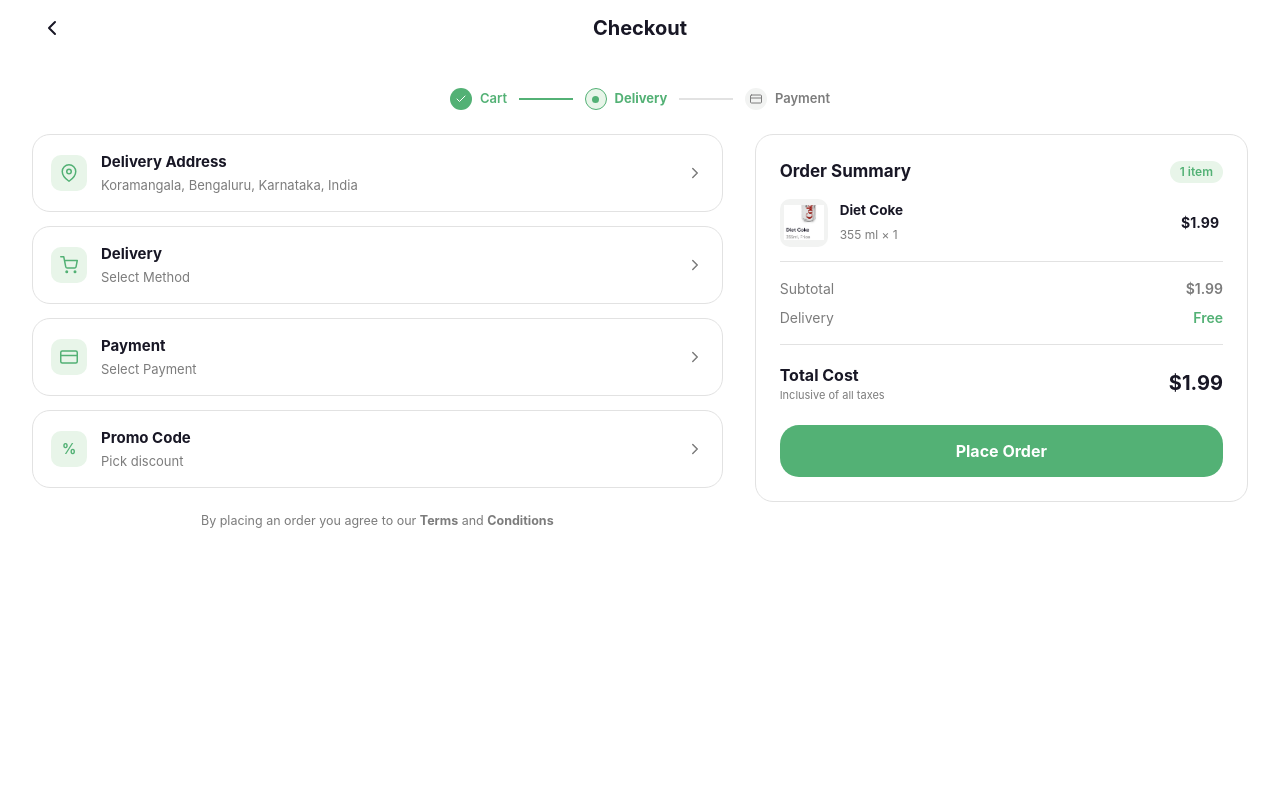
it: CheckoutPage › shows validation errors when placing order without selections
Click the button "Place Order": (1001, 451) [780,425,1223,477]
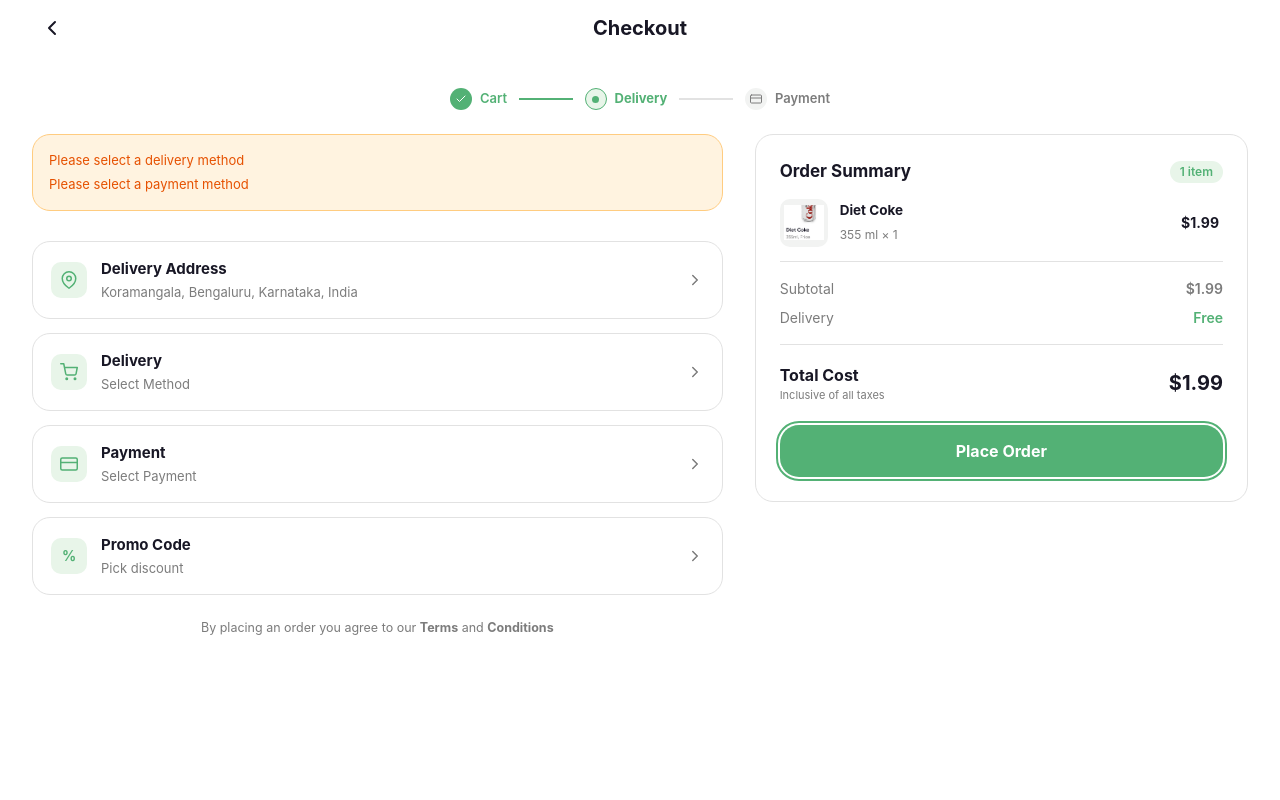
Expected: the text "Please select a delivery method" is shown, [49,152,244,168]
Expected: the text "Please select a payment method" is shown, [49,176,249,192]
